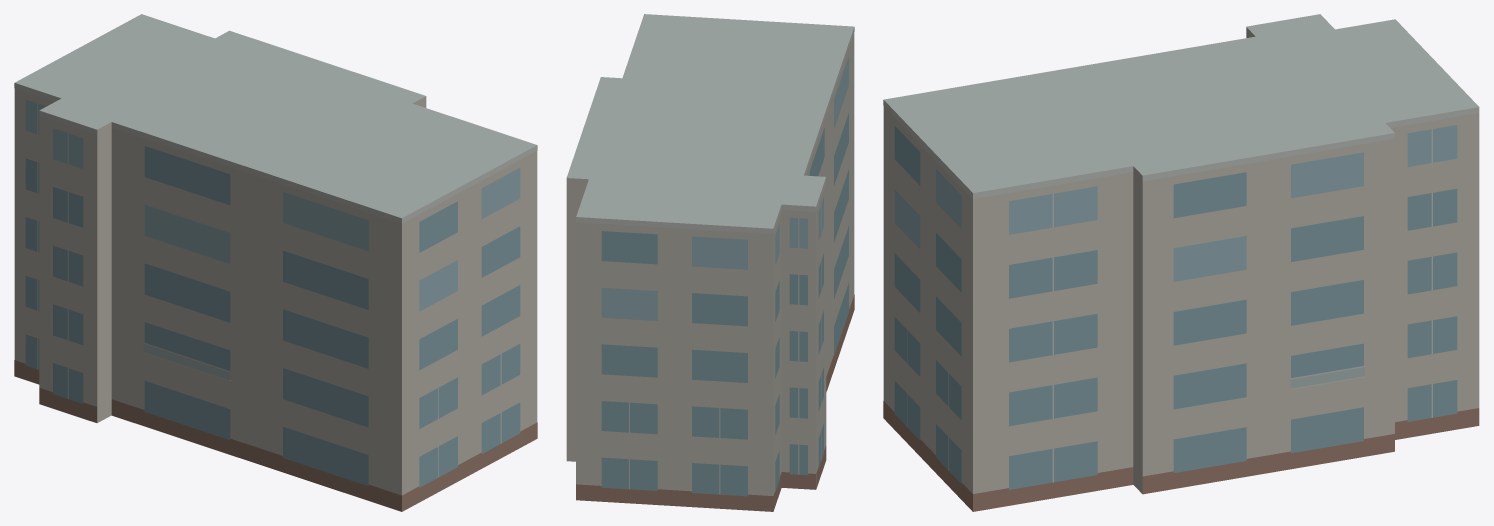
Rendered from survey-upis-32745980.glb.
3 views of the same model, side by side, from view 1: azimuth 30°, elevation 25°; view 2: azimuth 150°, elevation 25°; view 3: azimuth 270°, elevation 25° (orthographic). The views are drawn at different scales.
Parts seen in each view (by area): view 1: survey-upis-32745980.tmp; view 2: survey-upis-32745980.tmp; view 3: survey-upis-32745980.tmp.
Part boxes in pixels (x1,y1,x2,y2): survey-upis-32745980.tmp: (14, 14, 537, 511); survey-upis-32745980.tmp: (566, 14, 854, 511); survey-upis-32745980.tmp: (883, 14, 1479, 511).
Size of the model in its own units: 15.81 by 13.1 by 22.21.
